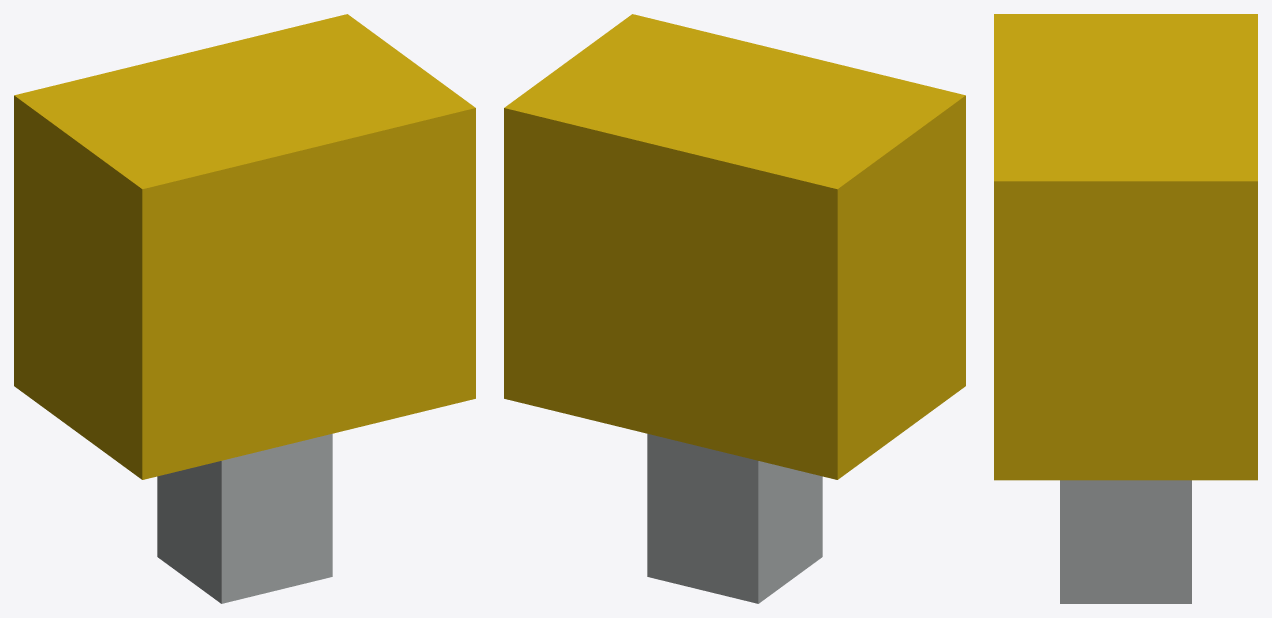
File: hoist_hook_block.glb
3 renders of one model, left to right at view 1: azimuth 30°, elevation 25°; view 2: azimuth 150°, elevation 25°; view 3: azimuth 270°, elevation 25°, orthographic. The views are drawn at different scales.
Parts seen in each view (by area): view 1: body:compound; view 2: body:compound; view 3: body:compound.
Part boxes in pixels (box(x1,y1,x2,y2)): body:compound: box(14, 14, 475, 603); body:compound: box(504, 14, 965, 603); body:compound: box(994, 14, 1257, 603).
Bounding box in the file's own units: 0.1875 × 0.25 × 0.125.
